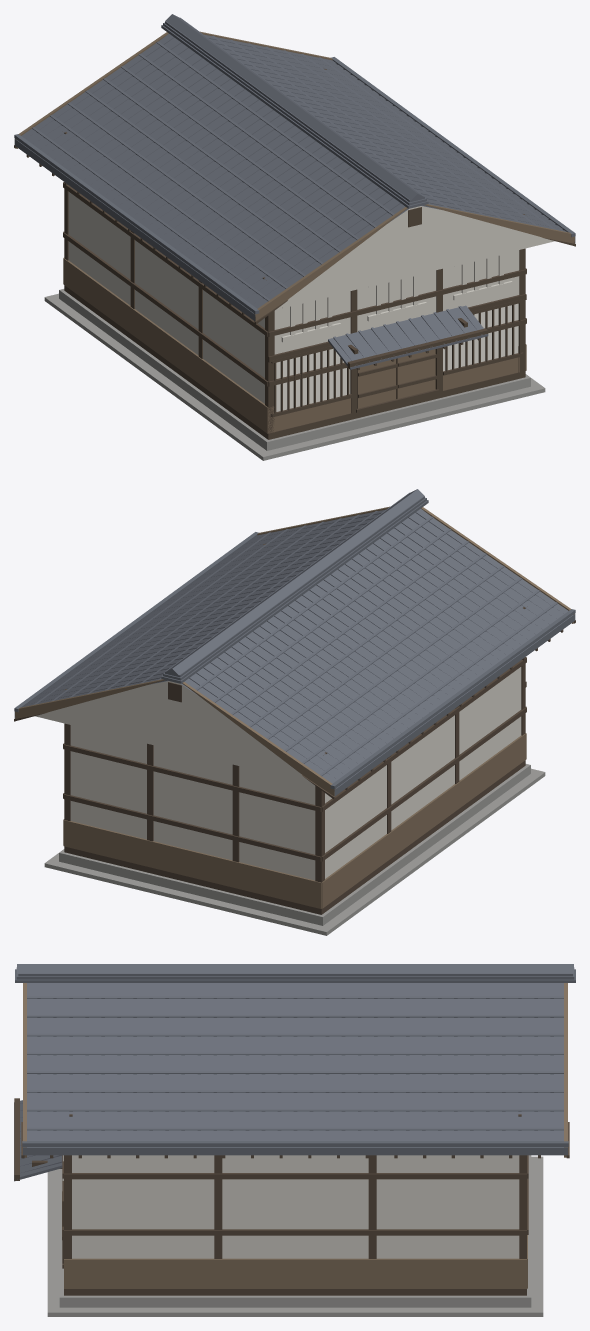
File: machiya_t_a.glb
3 renders of one model, top to bottom at view 1: azimuth 30°, elevation 25°; view 2: azimuth 150°, elevation 25°; view 3: azimuth 270°, elevation 25°, orthographic. The views are drawn at different scales.
Visible parts, largest first — view 1: machiya_t_a; view 2: machiya_t_a; view 3: machiya_t_a.
Part boxes in pixels (x1=…): machiya_t_a: x1=14, y1=14, x2=575, y2=460; machiya_t_a: x1=14, y1=489, x2=575, y2=935; machiya_t_a: x1=14, y1=964, x2=575, y2=1316.
Bounding box in the file's own units: 7.96 × 5.76 × 10.68.
